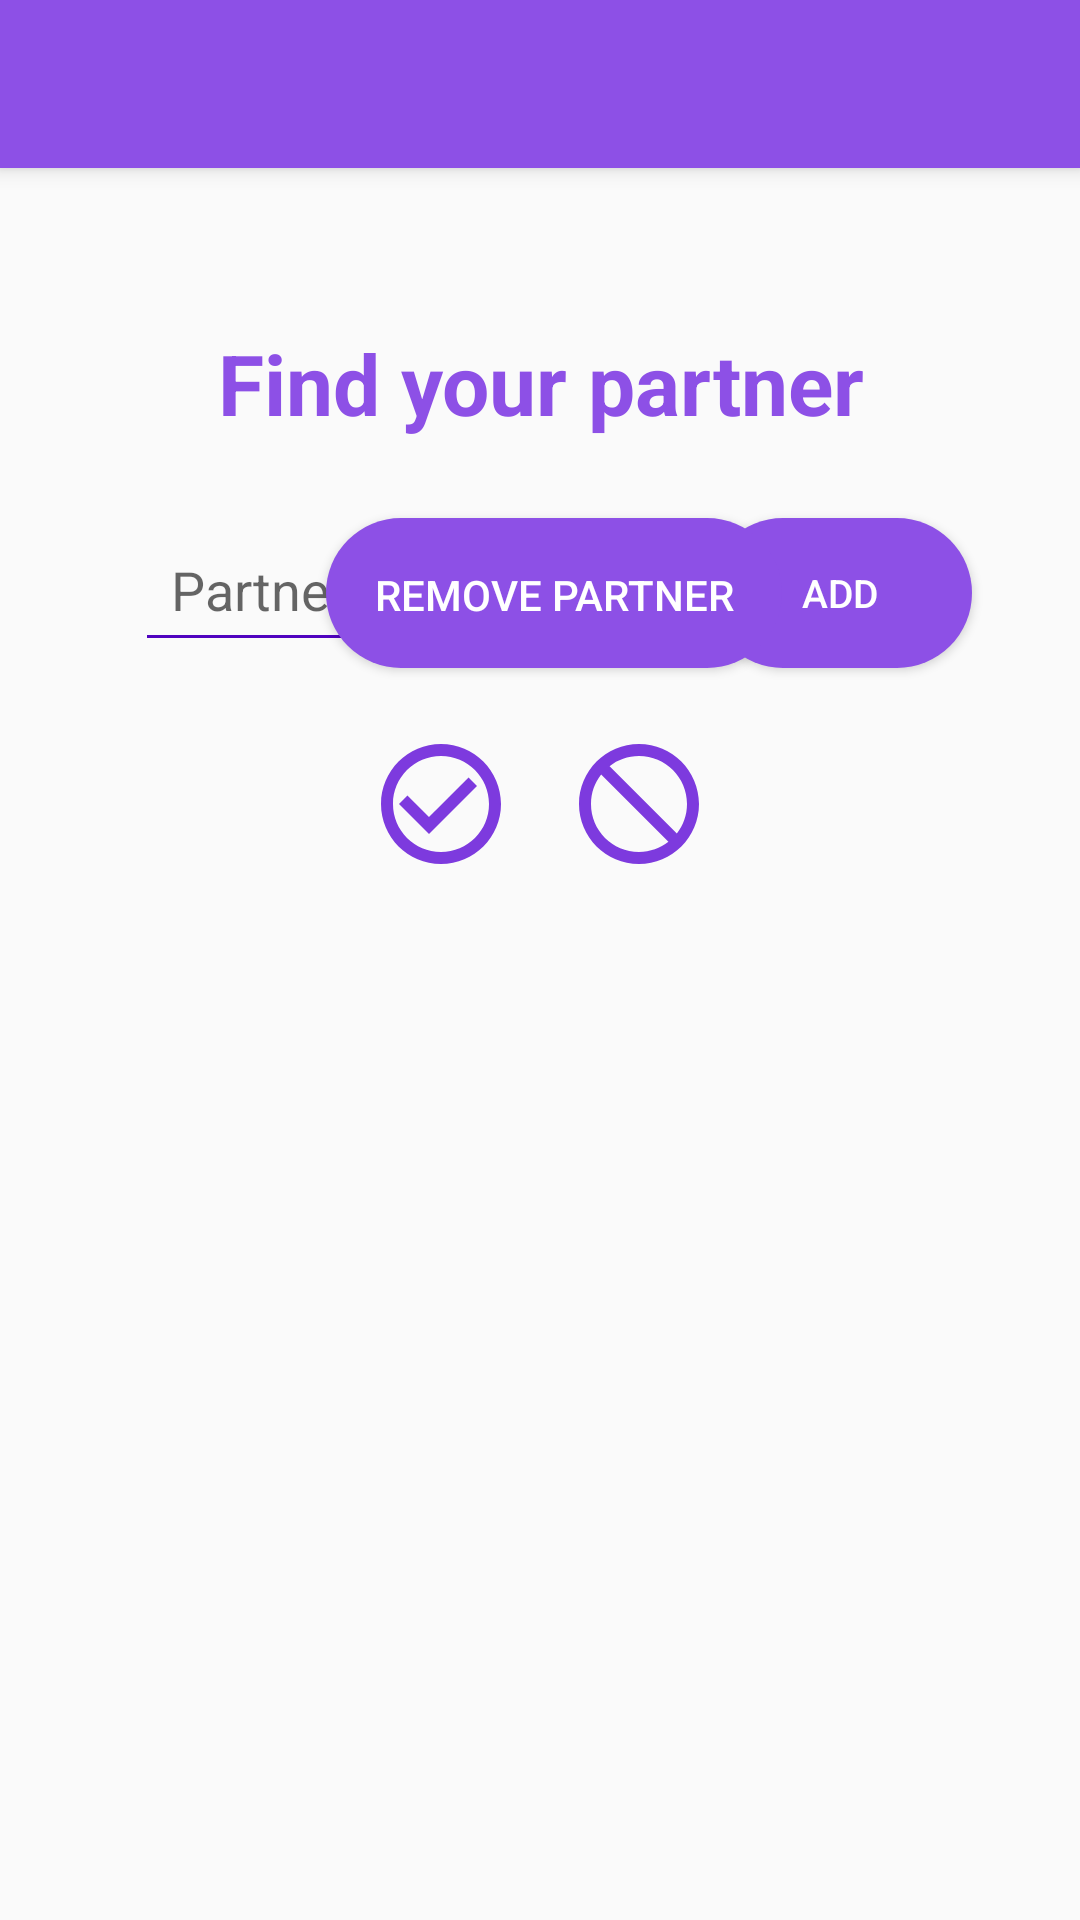

Named icons in this screenshot (1080 x 1920) and their bounding boxes, [x1=x1, y1=y1, x2=x2, y2=y2]:
Accept: [x1=381, y1=744, x2=501, y2=864]
Reject: [x1=579, y1=744, x2=699, y2=864]
